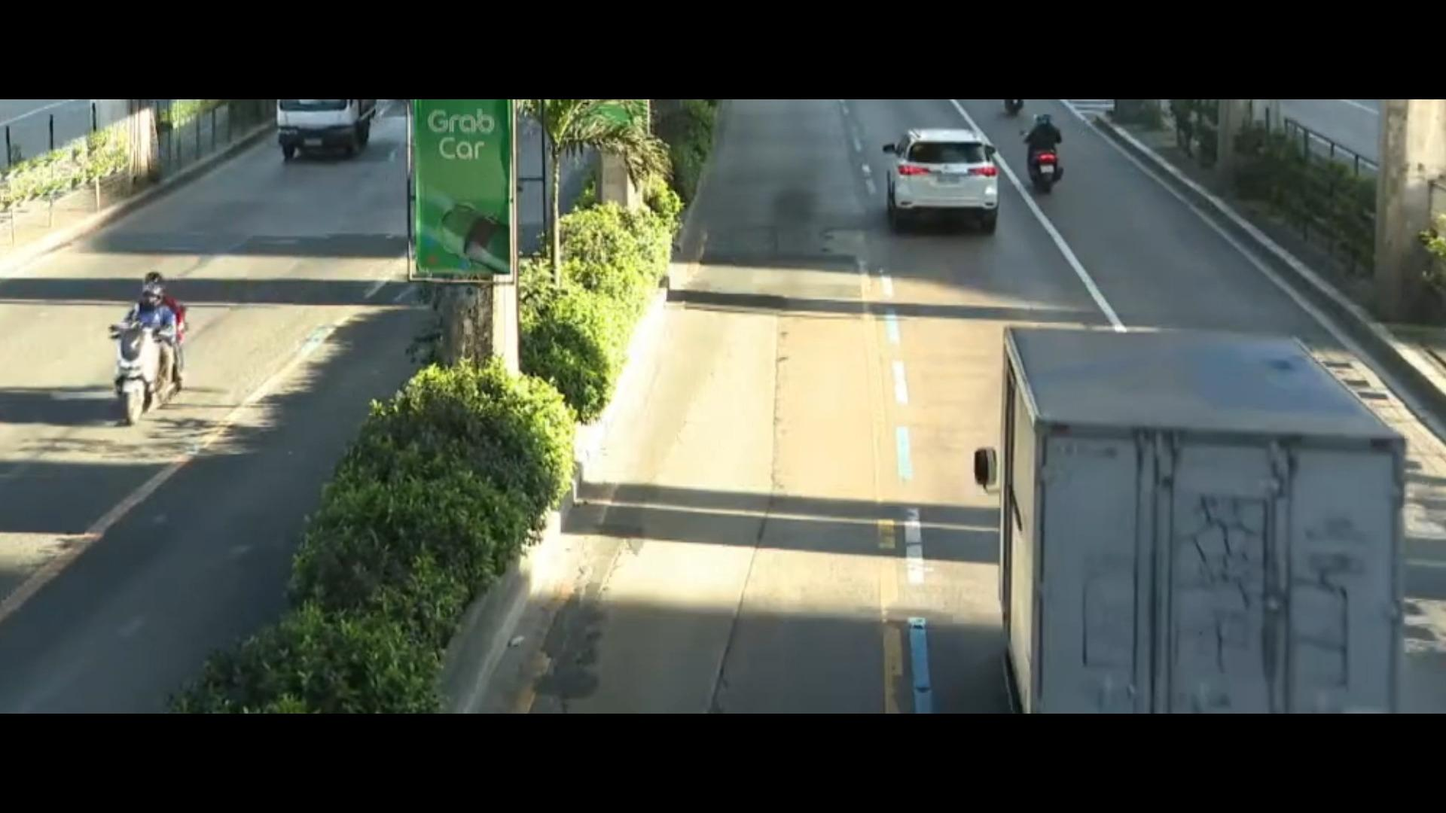Motorcycle: (103, 247, 251, 455), (1016, 117, 1089, 209)
SUV: (861, 111, 1009, 243)
Truck: (921, 273, 1446, 715), (273, 93, 394, 170)
